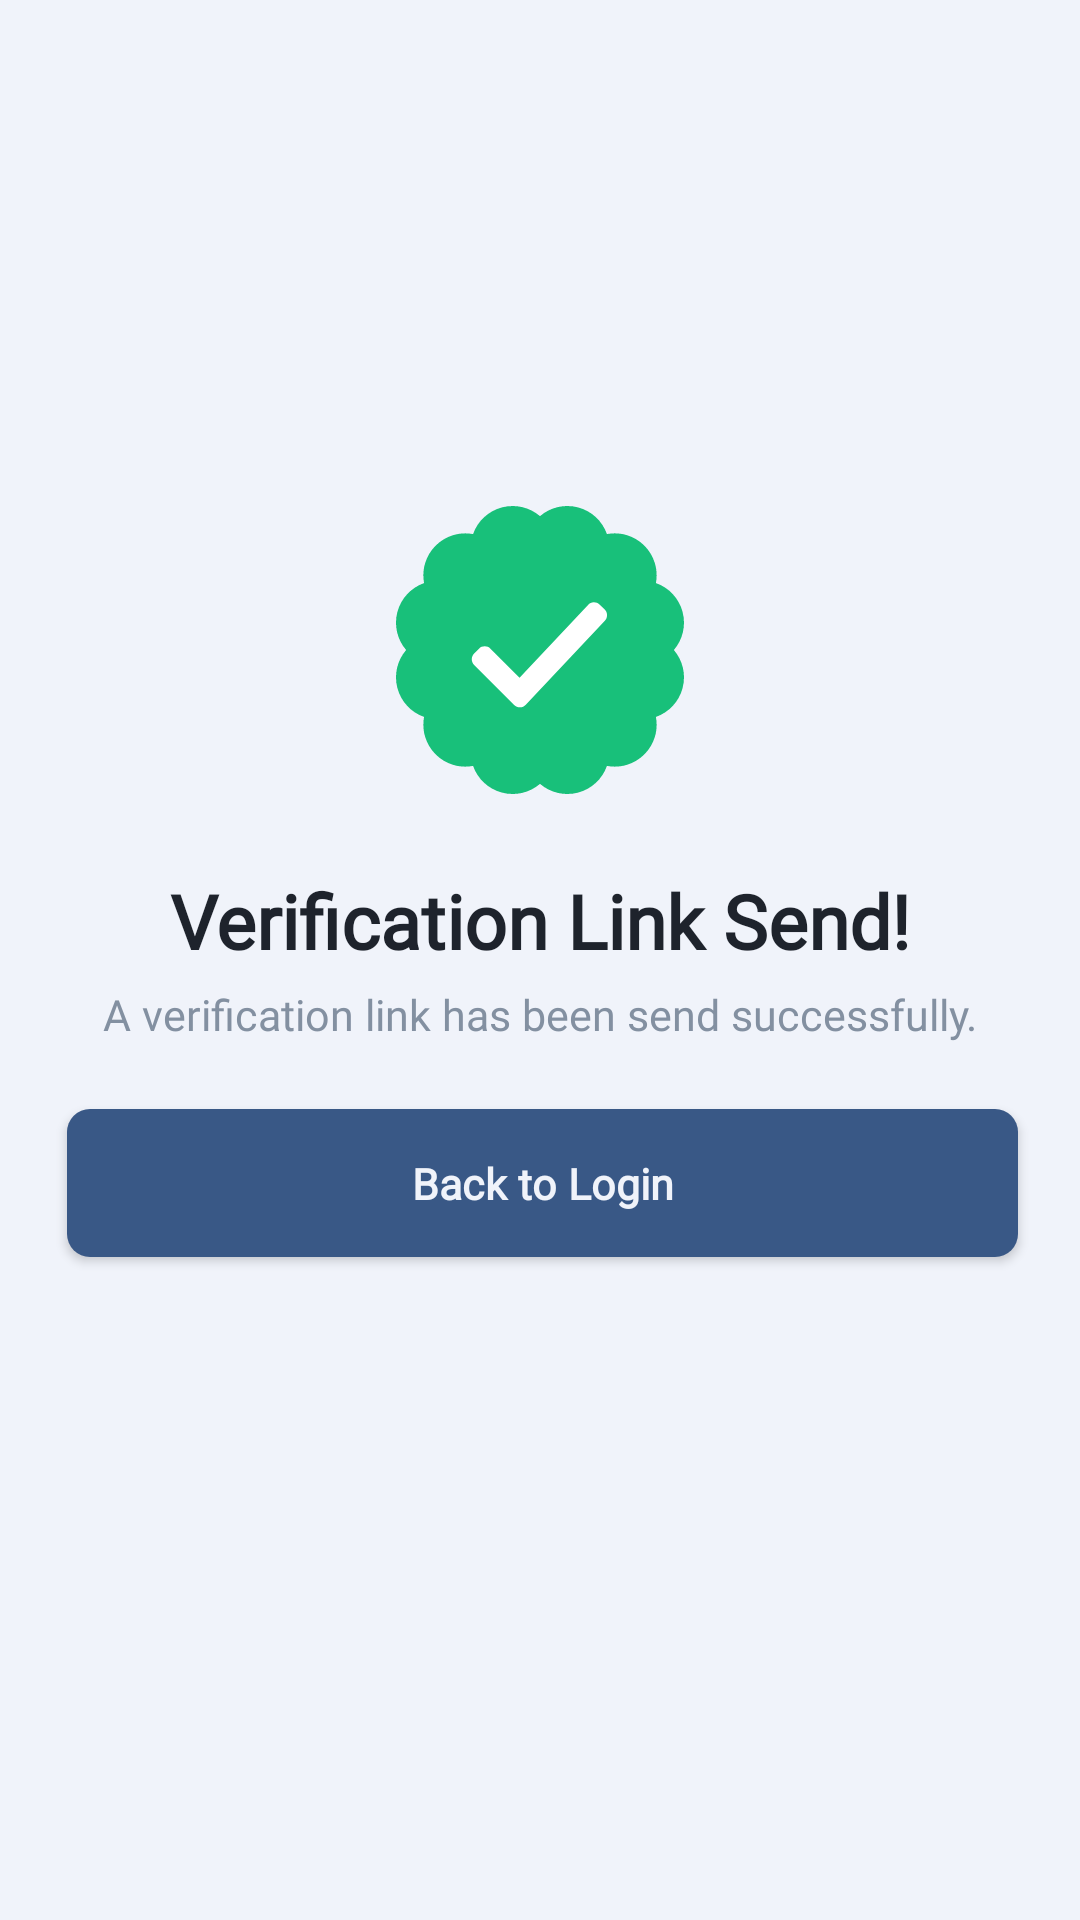

Icons on this 1080 x 1920 Android screen, each with its box as [x1=x1, y1=y1, x2=x2, y2=y2]:
checkmark: [x1=396, y1=506, x2=684, y2=794]
